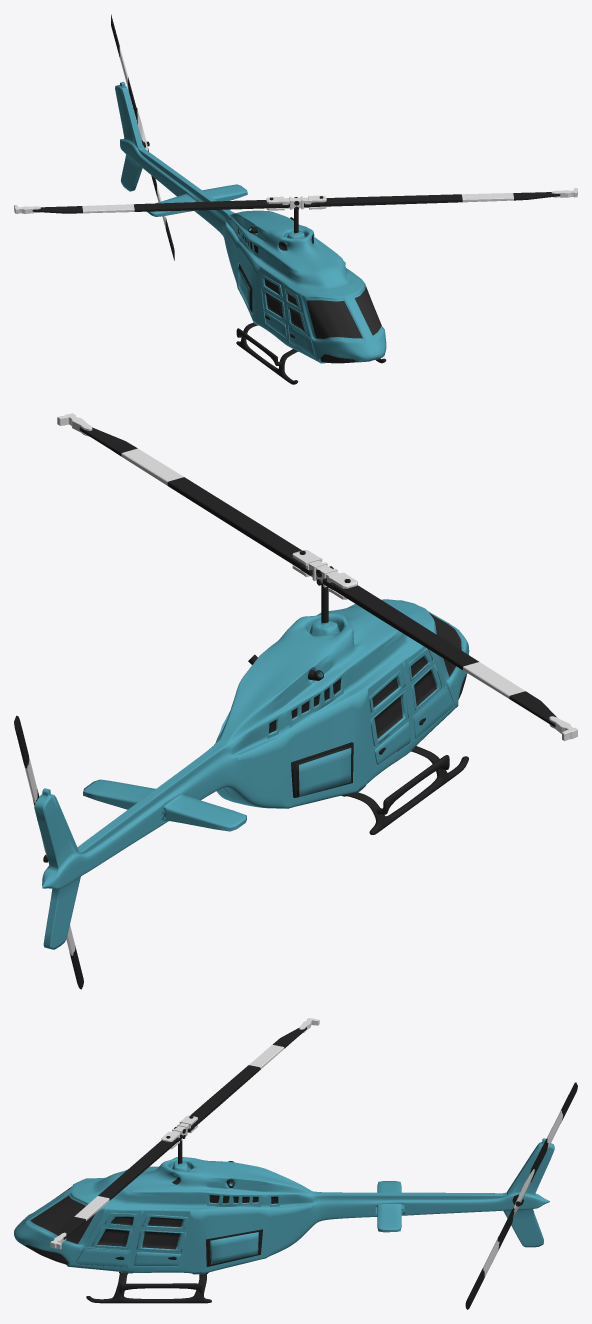
Rendered from Heli_bell.fbx.
The picture shows the model from 3 angles, top to bottom: view 1: azimuth 30°, elevation 25°; view 2: azimuth 150°, elevation 25°; view 3: azimuth 270°, elevation 25°; orthographic projection. The views are drawn at different scales.
Parts seen in each view (by area): view 1: body_helicopter, baling baling_1, baling-baling_2; view 2: body_helicopter, baling baling_1, baling-baling_2; view 3: body_helicopter, baling baling_1, baling-baling_2.
Boxes of the visible parts, x1,y1,x2,y2 form: body_helicopter: (115,81,386,384); baling baling_1: (14,188,577,213); baling-baling_2: (111,14,174,260); body_helicopter: (34,584,469,949); baling baling_1: (57,413,577,740); baling-baling_2: (14,715,83,989); body_helicopter: (14,1138,554,1303); baling baling_1: (50,1018,319,1249); baling-baling_2: (465,1082,577,1309).
Bounding box in the file's own units: 1787 × 815 × 1878.
